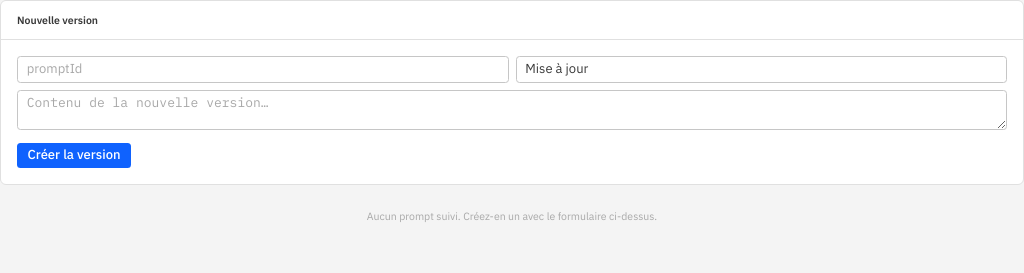
Test case: VersionHistory › should validate empty content
Type "test-prompt" into the field with placeholder "promptId" at (263, 69), box [17,56,508,82]
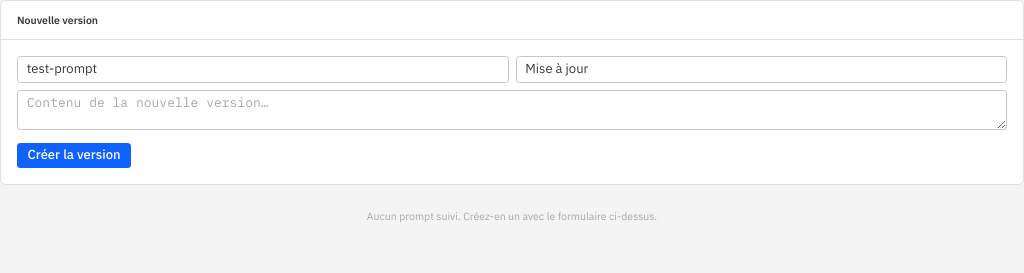
Click the button "Créer la version" at (74, 155), box [17,143,131,168]
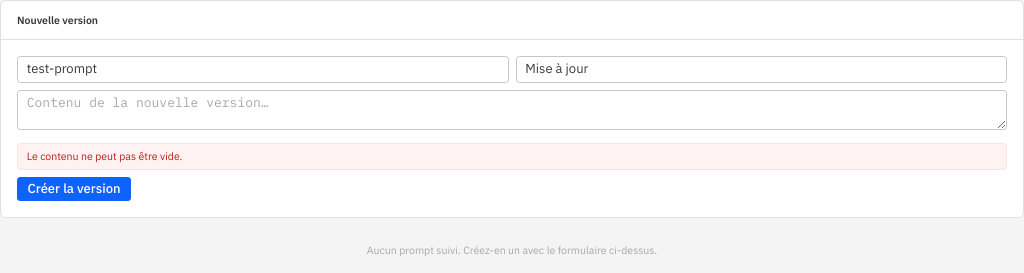
Check: the text "contenu ne peut pas être vide" is shown, box [27,149,182,163]
